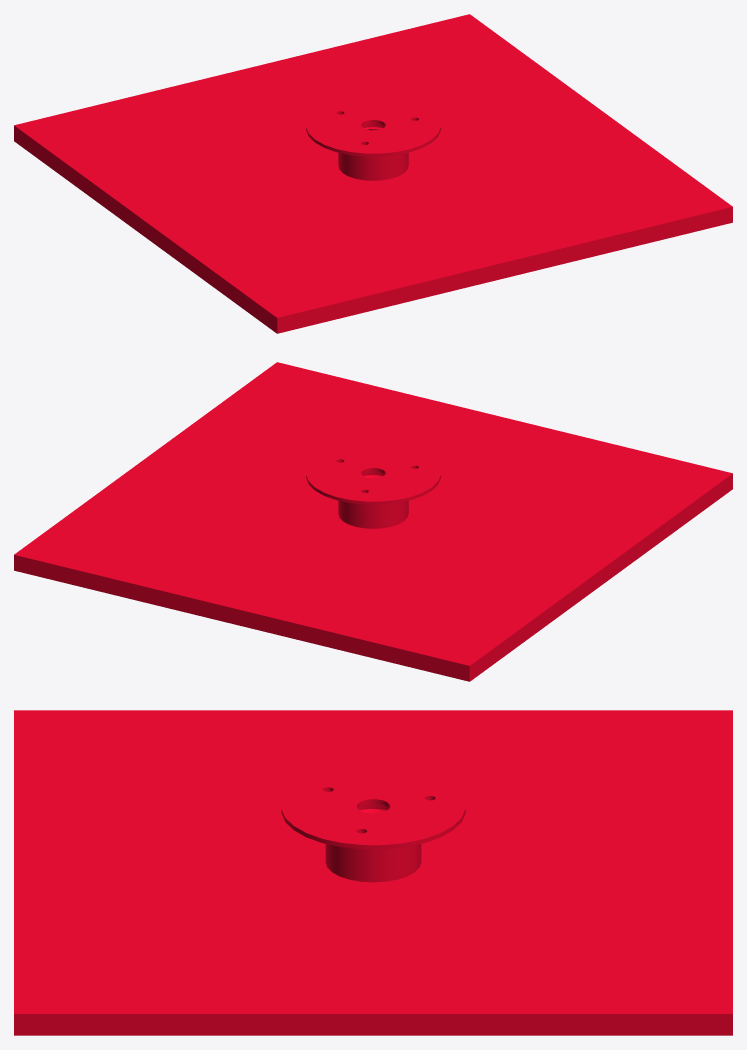
File: forcesensor_mount_top.dae
3 views of the same model, one above another, from view 1: azimuth 30°, elevation 25°; view 2: azimuth 150°, elevation 25°; view 3: azimuth 270°, elevation 25° (orthographic). The views are drawn at different scales.
Parts seen in each view (by area): view 1: mesh_1_forcesensor_gornji_dio; view 2: mesh_1_forcesensor_gornji_dio; view 3: mesh_1_forcesensor_gornji_dio.
Boxes of the visible parts, x1,y1,x2,y2 form: mesh_1_forcesensor_gornji_dio: (14,14,732,333); mesh_1_forcesensor_gornji_dio: (14,362,732,681); mesh_1_forcesensor_gornji_dio: (14,710,732,1035).
Bounding box in the file's own units: 0.3 × 0.3 × 0.0357.
